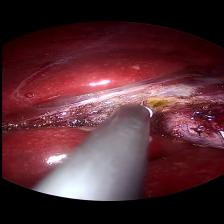Hook: (128, 100, 154, 122)
